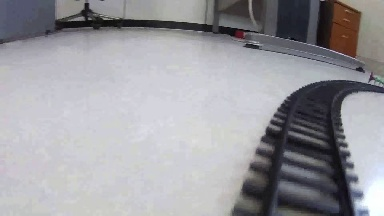tree: (361, 72, 384, 85)
